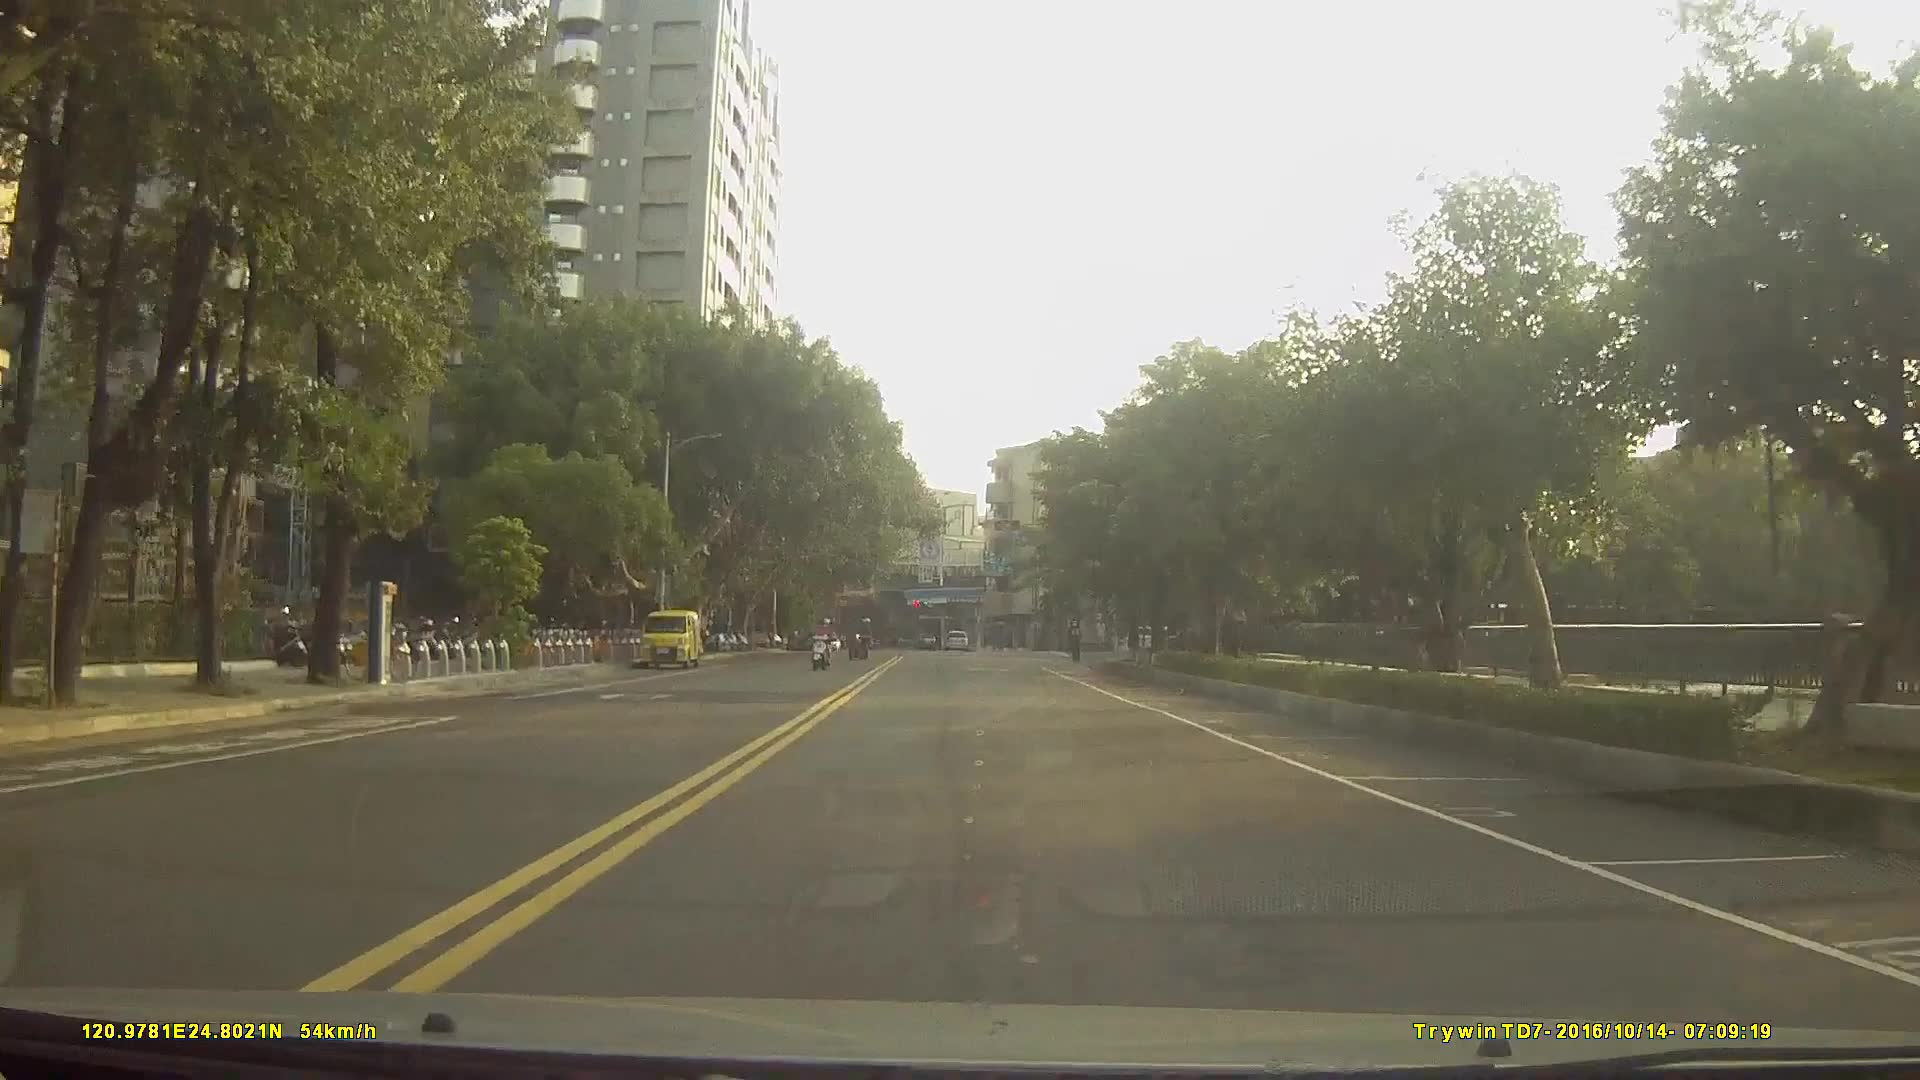pedestrian: (1091, 612, 1111, 654)
rider: (809, 619, 840, 674), (847, 617, 879, 663)
vehicle: (938, 629, 970, 653)
